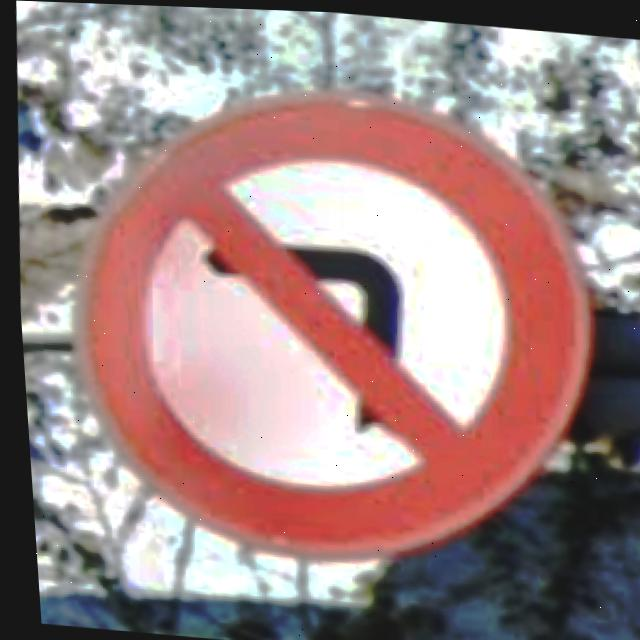noturnleft: (80, 89, 589, 556)
